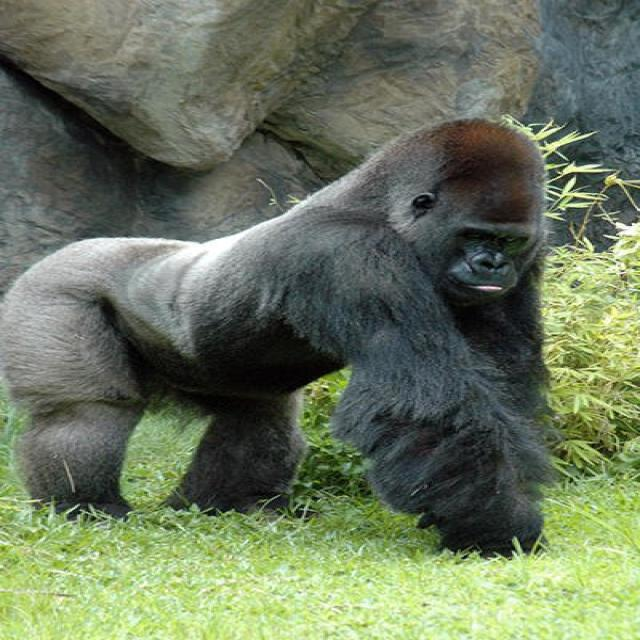Gorilla: (0, 116, 562, 546)
